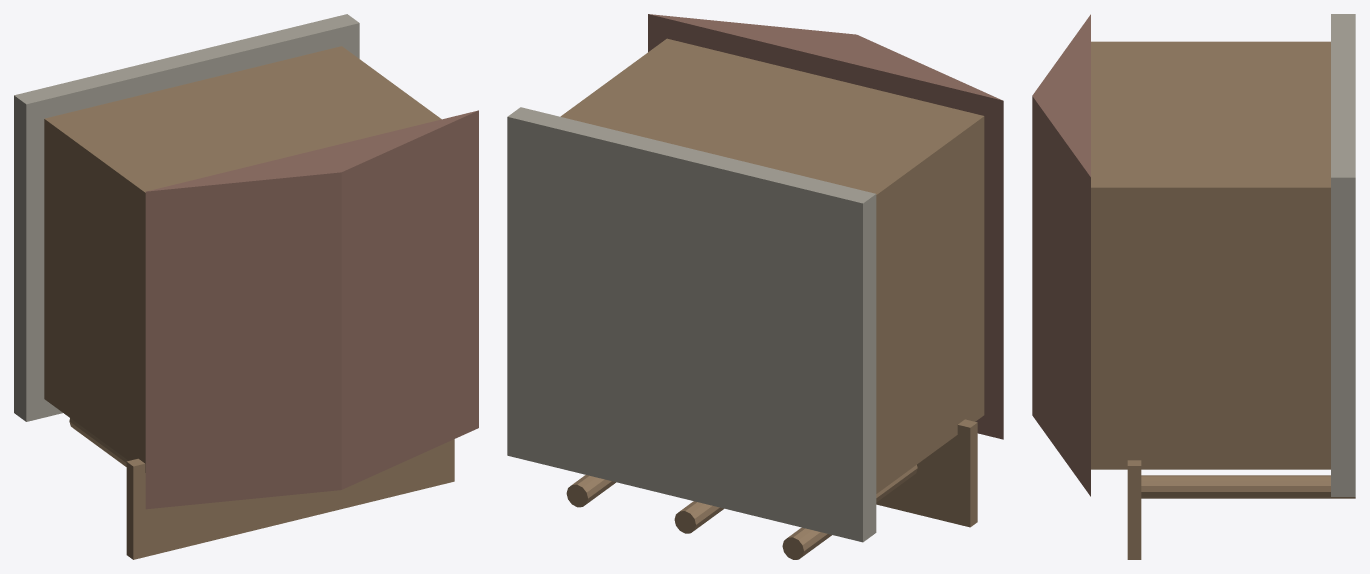
The model's file is AGE_I_commercial.glb.
3 views of the same model, side by side, from view 1: azimuth 30°, elevation 25°; view 2: azimuth 150°, elevation 25°; view 3: azimuth 270°, elevation 25° (orthographic). The views are drawn at different scales.
Parts seen in each view (by area): view 1: world; view 2: world; view 3: world.
Part boxes in pixels (x1=…): world: x1=14, y1=14, x2=478, y2=559; world: x1=507, y1=14, x2=1003, y2=559; world: x1=1032, y1=14, x2=1355, y2=559.
Bounding box in the file's own units: 5.6 × 6.15 × 4.68.
